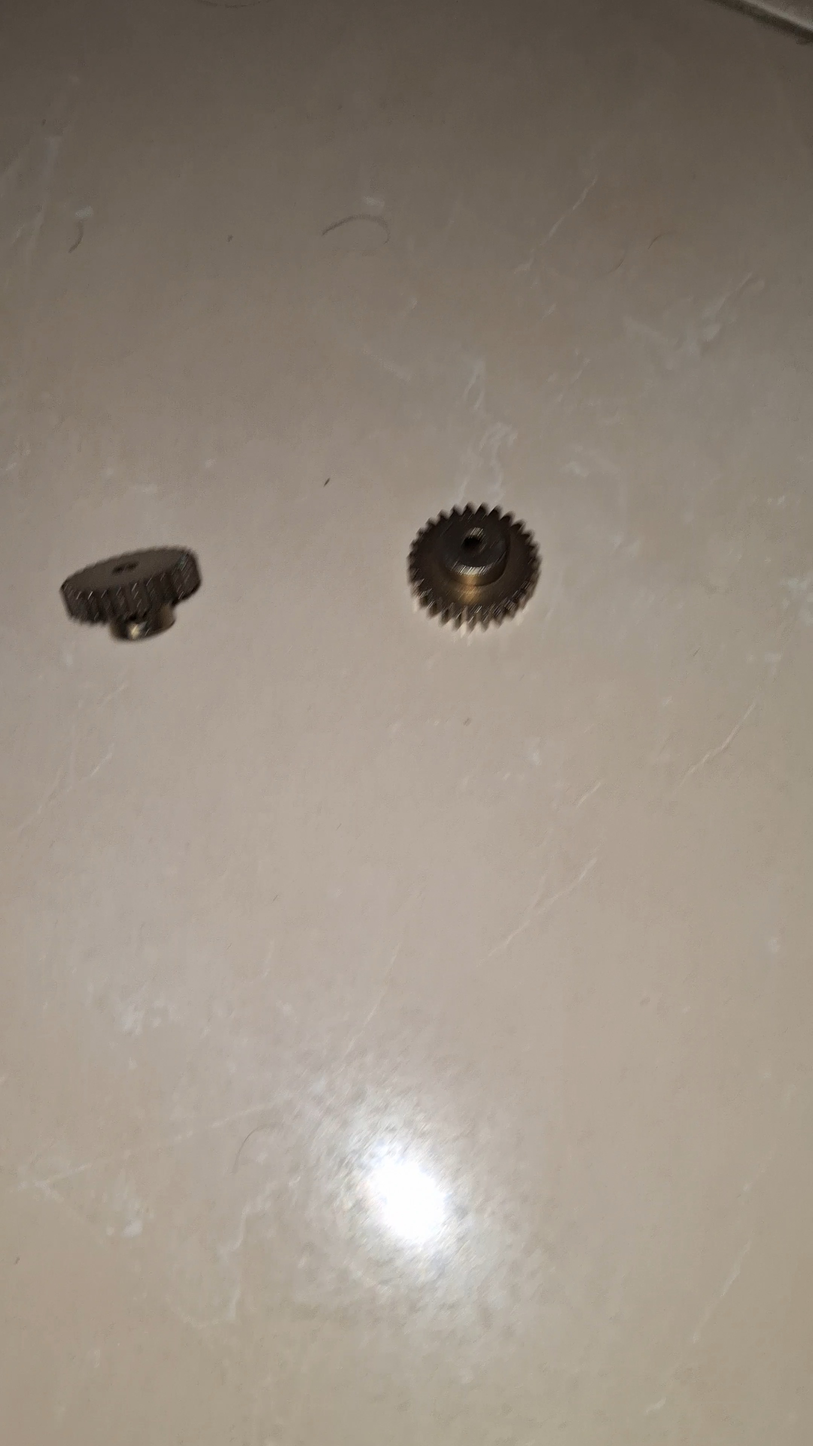spur gear: (408, 505, 539, 627), (62, 548, 200, 640), (722, 0, 813, 43)
